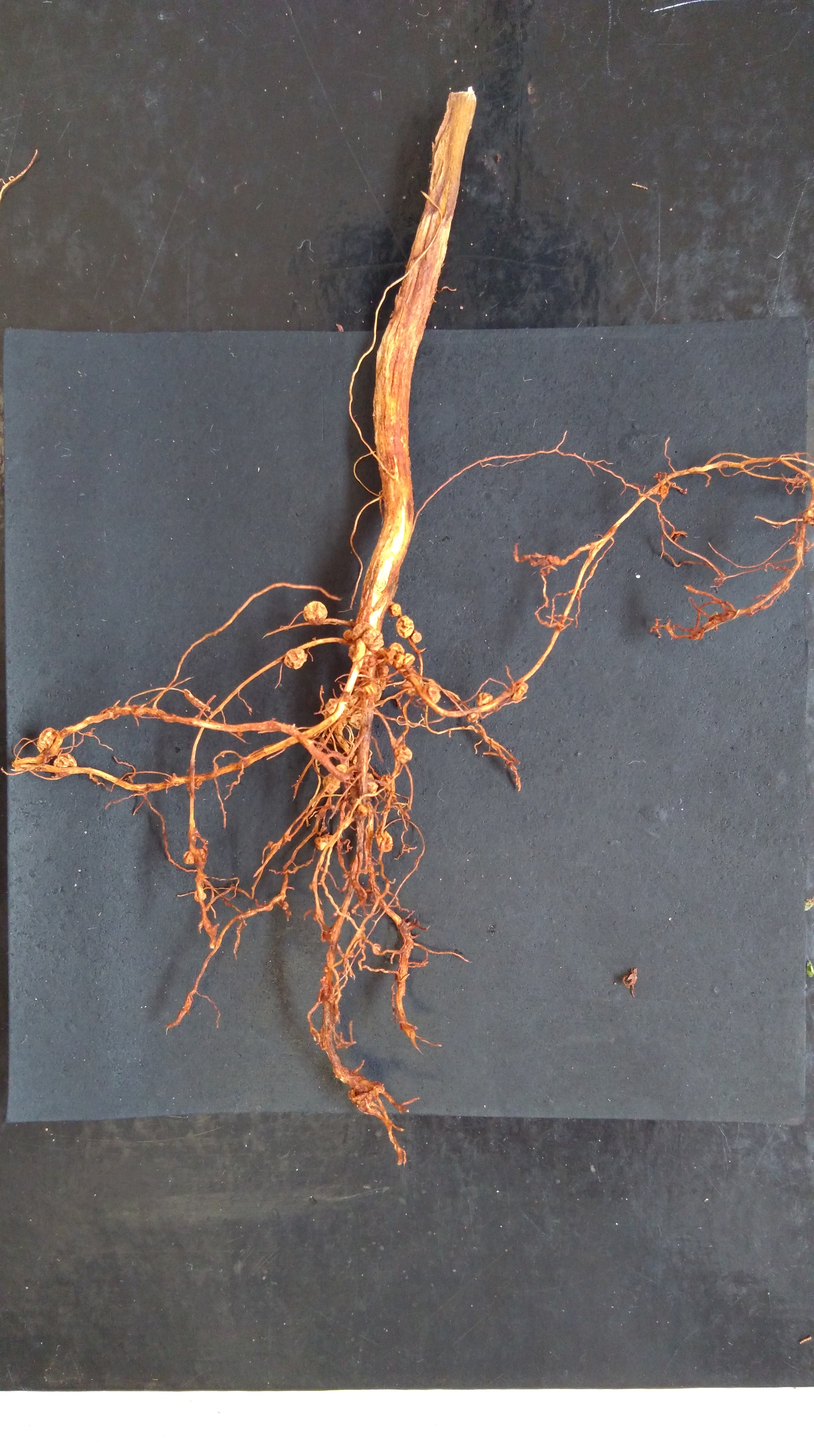nodule: (35, 725, 60, 753), (302, 599, 328, 623), (283, 647, 308, 671), (362, 627, 385, 652), (401, 673, 424, 697), (394, 614, 415, 639), (422, 680, 443, 704), (51, 752, 79, 770), (362, 679, 383, 703), (322, 771, 341, 795), (392, 745, 414, 765), (351, 622, 374, 641), (376, 830, 394, 854), (347, 640, 366, 662), (511, 681, 528, 702), (347, 711, 365, 730), (323, 697, 341, 715), (475, 691, 494, 707), (314, 835, 329, 852), (400, 652, 416, 667), (388, 602, 402, 618), (181, 850, 195, 866), (388, 641, 405, 654), (410, 628, 423, 644), (465, 711, 481, 724), (374, 665, 390, 677), (194, 890, 207, 903), (366, 780, 379, 793), (342, 627, 352, 642), (357, 804, 369, 816), (659, 485, 669, 499), (335, 763, 347, 773), (198, 848, 207, 861), (366, 773, 375, 780)
